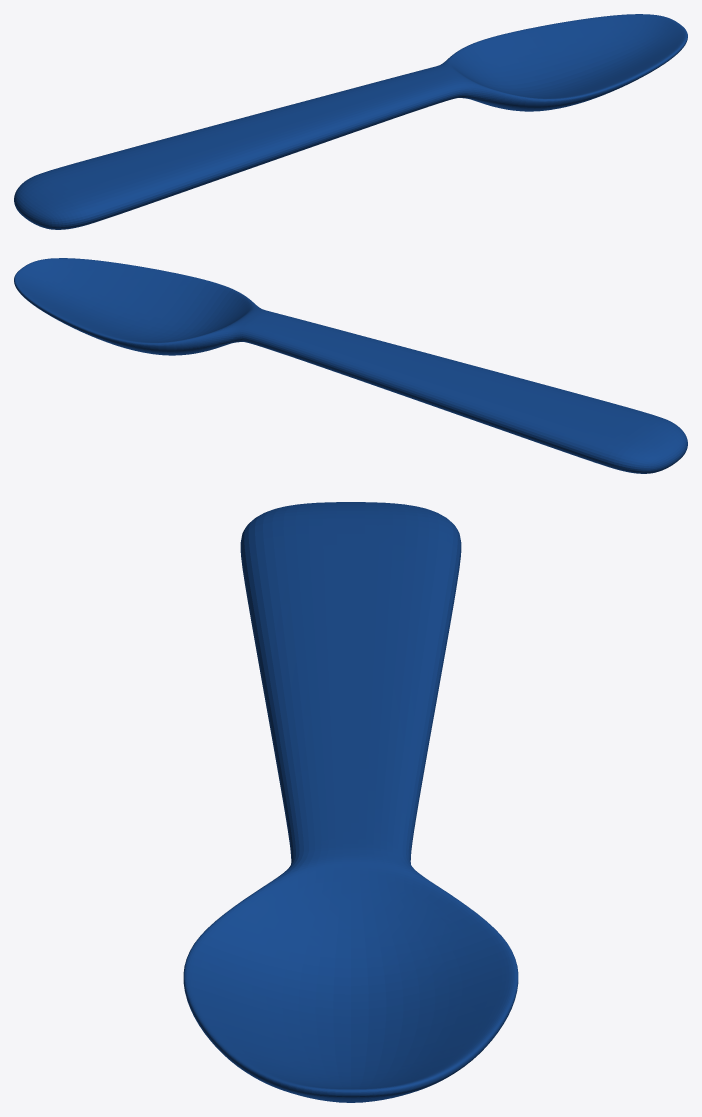
The model's file is dishware_plastic_spoon_a01.glb.
3 renders of one model, top to bottom at view 1: azimuth 30°, elevation 25°; view 2: azimuth 150°, elevation 25°; view 3: azimuth 270°, elevation 25°, orthographic. The views are drawn at different scales.
Visible parts, largest first — view 1: part0; view 2: part0; view 3: part0.
Part boxes in pixels (left/top/right/bottom): part0: left=14, top=14, right=687, bottom=229; part0: left=14, top=258, right=687, bottom=473; part0: left=183, top=502, right=518, bottom=1102.
Bounding box in the file's own units: 0.1566 × 0.0106 × 0.0346.
